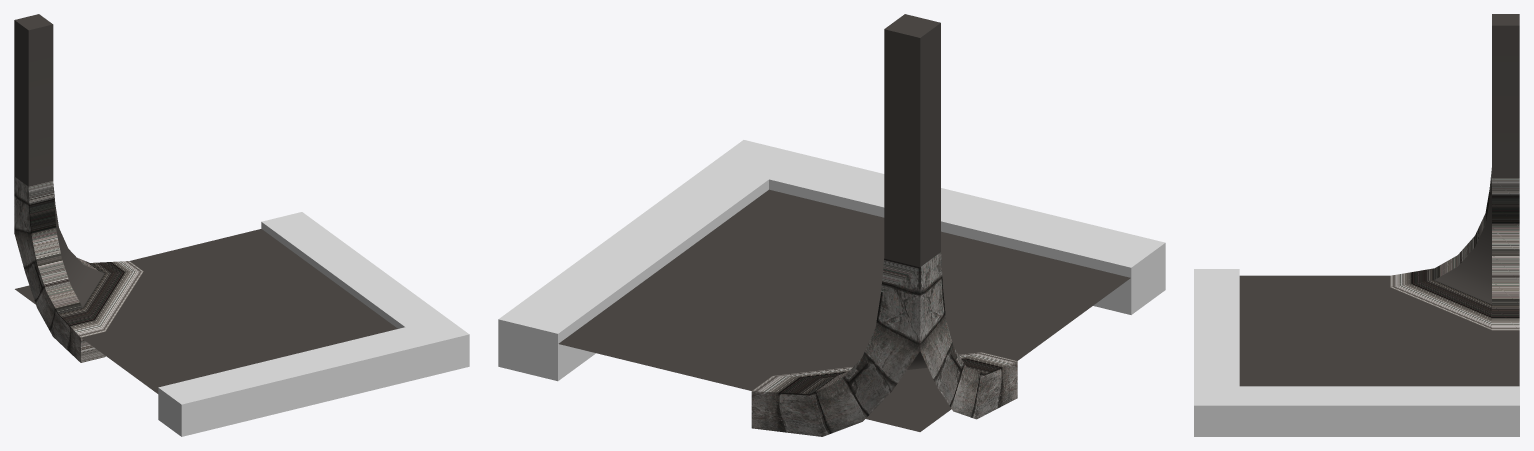
Rendered from CornerWall_01_Fix.fbx.
3 views of the same model, side by side, from view 1: azimuth 30°, elevation 25°; view 2: azimuth 150°, elevation 25°; view 3: azimuth 270°, elevation 25° (orthographic). The views are drawn at different scales.
Visible parts, largest first — view 1: CornerWall_01_Fix; view 2: CornerWall_01_Fix; view 3: CornerWall_01_Fix.
Boxes of the visible parts, bbox=[...] form: CornerWall_01_Fix: bbox=[14, 14, 469, 436]; CornerWall_01_Fix: bbox=[498, 14, 1165, 436]; CornerWall_01_Fix: bbox=[1194, 14, 1519, 436].
Size of the model in its own units: 453 by 443 by 457.
